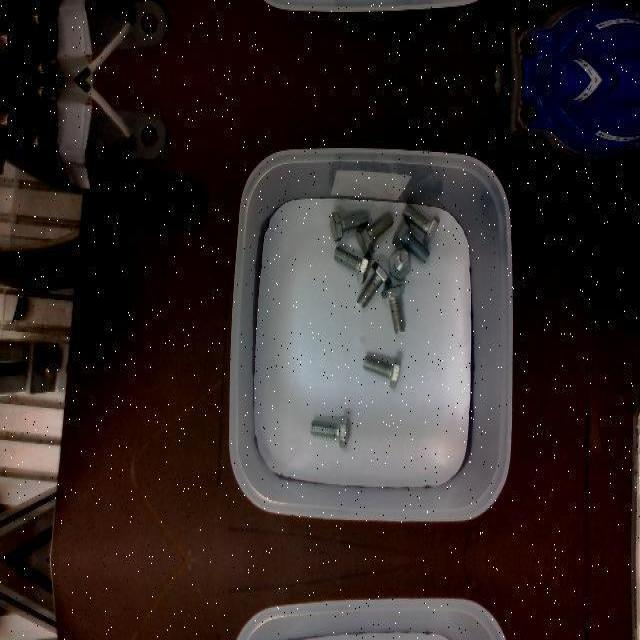screw: (392, 217, 430, 263), (357, 262, 392, 308), (401, 203, 439, 245), (355, 212, 393, 254), (333, 245, 371, 283), (362, 355, 401, 389), (311, 416, 350, 448), (380, 283, 404, 333), (330, 210, 368, 240), (388, 249, 410, 279)
